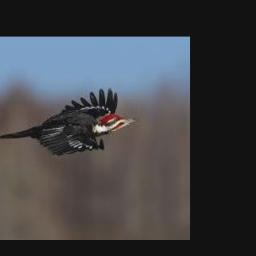Woodpecker: (0, 87, 140, 156)
